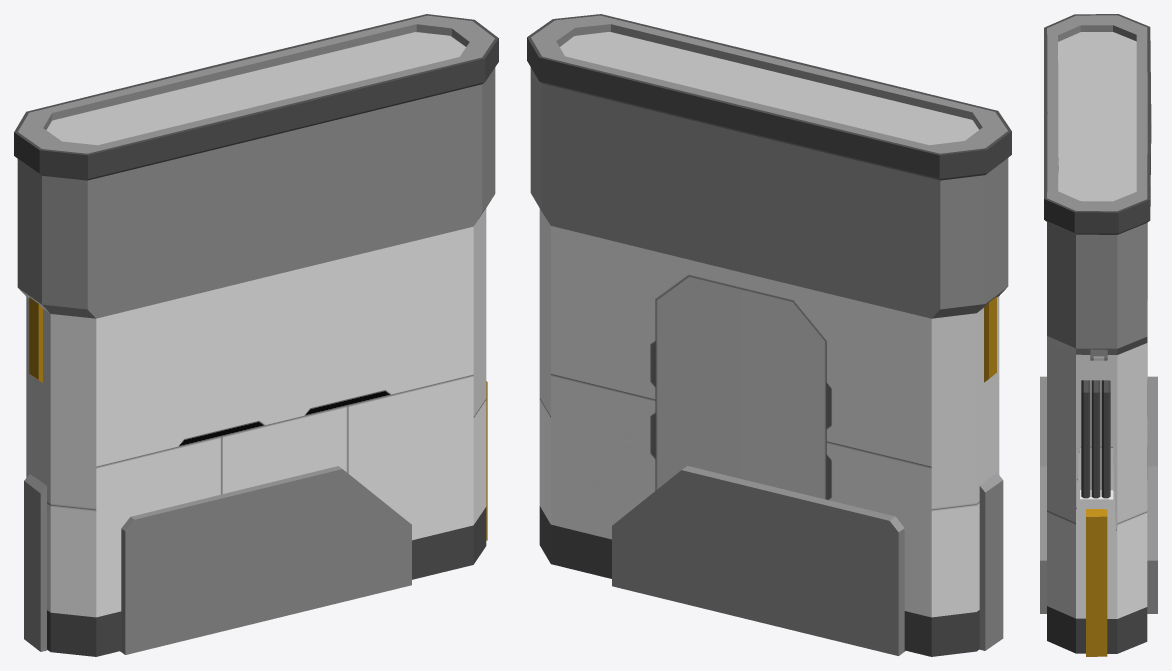
Rendered from SM_Column_4.fbx.
The picture shows the model from 3 angles, left to right: view 1: azimuth 30°, elevation 25°; view 2: azimuth 150°, elevation 25°; view 3: azimuth 270°, elevation 25°; orthographic projection. The views are drawn at different scales.
Visible parts, largest first — view 1: SM_Column_4; view 2: SM_Column_4; view 3: SM_Column_4.
Part boxes in pixels (x1,y1,x2,y2): SM_Column_4: (14,14,498,656); SM_Column_4: (527,14,1011,656); SM_Column_4: (1040,14,1157,656).
Bounding box in the file's own units: 317 × 333 × 79.59.
